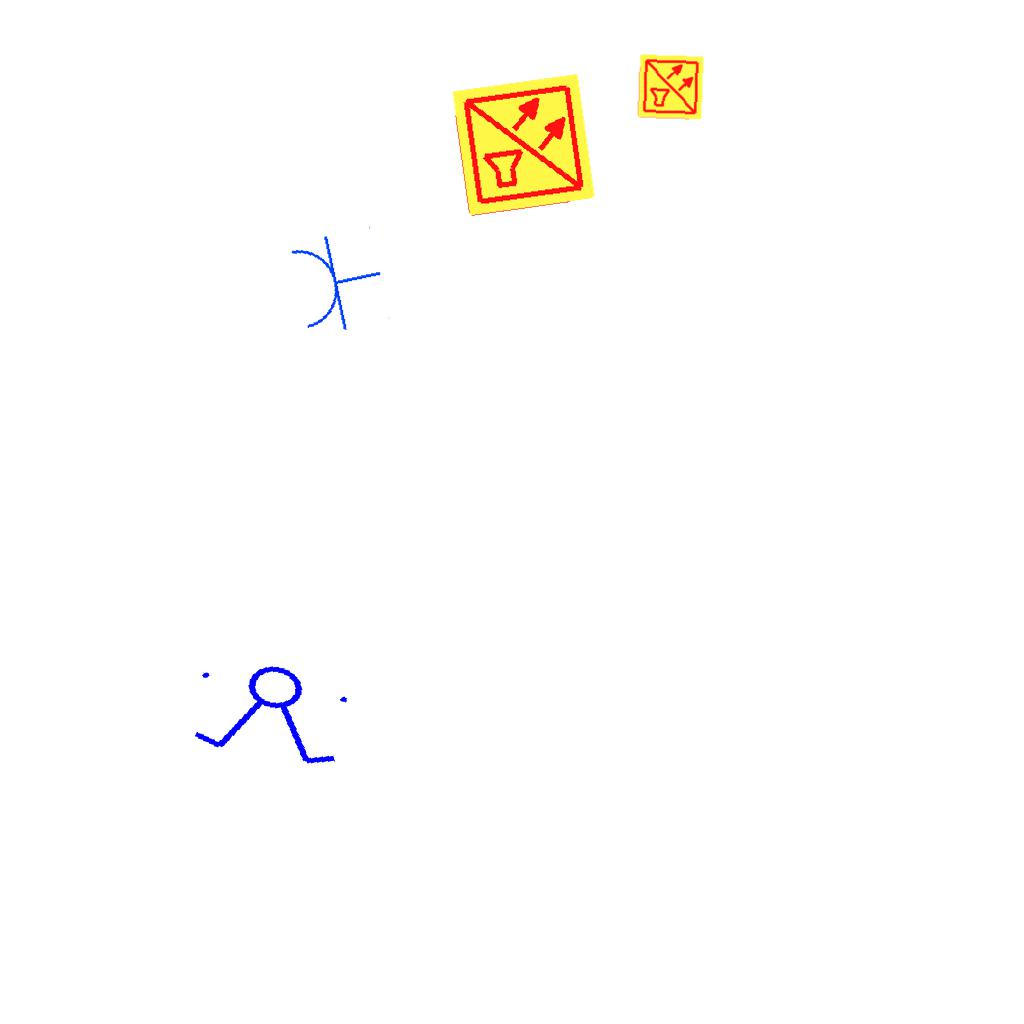OKW_Multisensormelder_(Kombination_optischer_Rauch-Kahlenmonoxid_Waerme-Melder): (449, 70, 599, 220), (636, 52, 706, 122)
Schukosteckdose_einfach: (285, 223, 391, 340)
Serienschalter: (180, 651, 364, 775)
